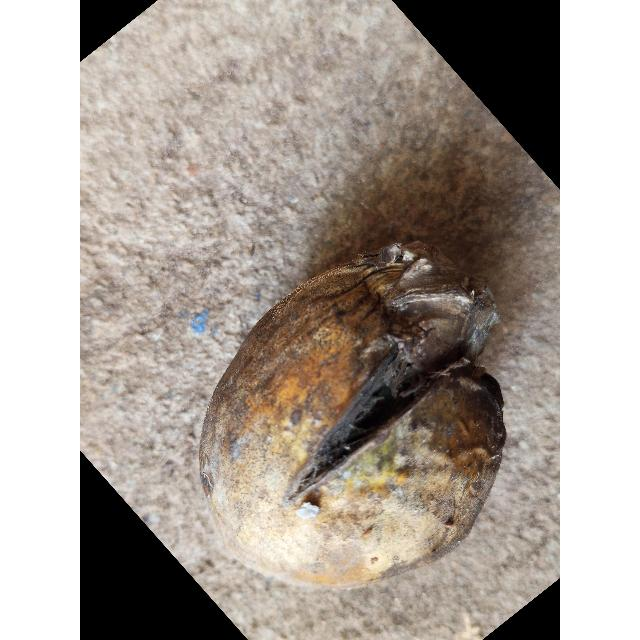damaged: (200, 246, 507, 591)
